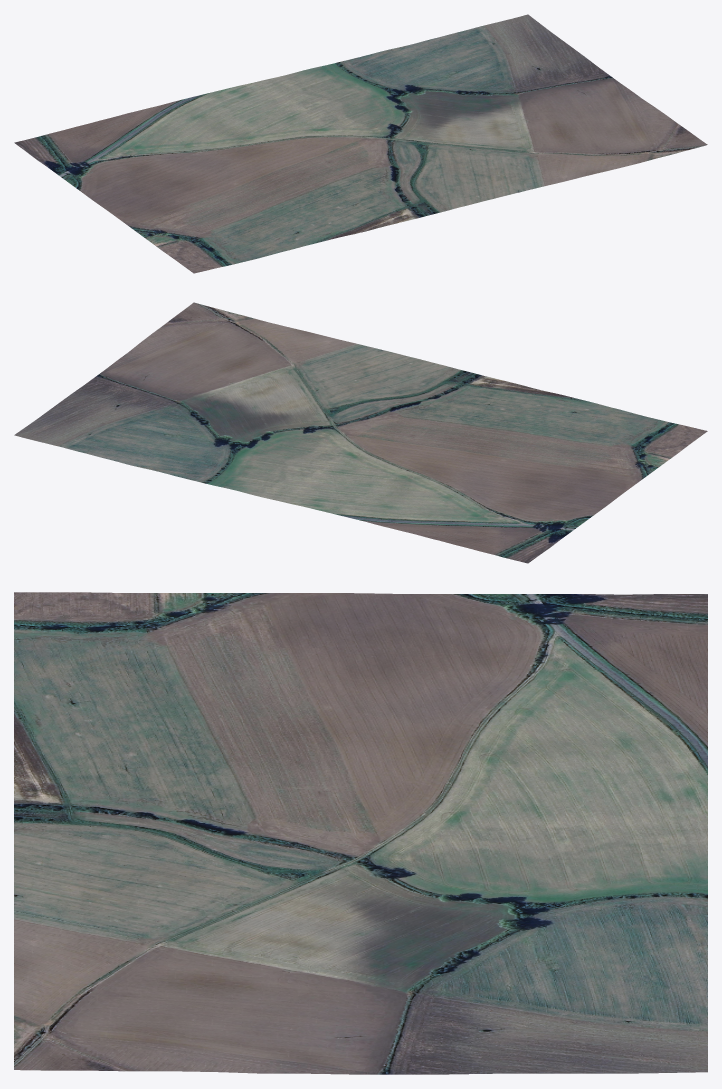
The model's file is legnica.glb.
3 renders of one model, top to bottom at view 1: azimuth 30°, elevation 25°; view 2: azimuth 150°, elevation 25°; view 3: azimuth 270°, elevation 25°, orthographic. The views are drawn at different scales.
Visible parts, largest first — view 1: EXPORT_GOOGLE_SAT_WM; view 2: EXPORT_GOOGLE_SAT_WM; view 3: EXPORT_GOOGLE_SAT_WM.
Part boxes in pixels (x1,y1,x2,y2): EXPORT_GOOGLE_SAT_WM: (14, 14, 707, 273); EXPORT_GOOGLE_SAT_WM: (14, 302, 707, 563); EXPORT_GOOGLE_SAT_WM: (14, 592, 707, 1074).
Size of the model in its own units: 1261 by 10.36 by 764.
Materials: 1 (1 with a texture image).
